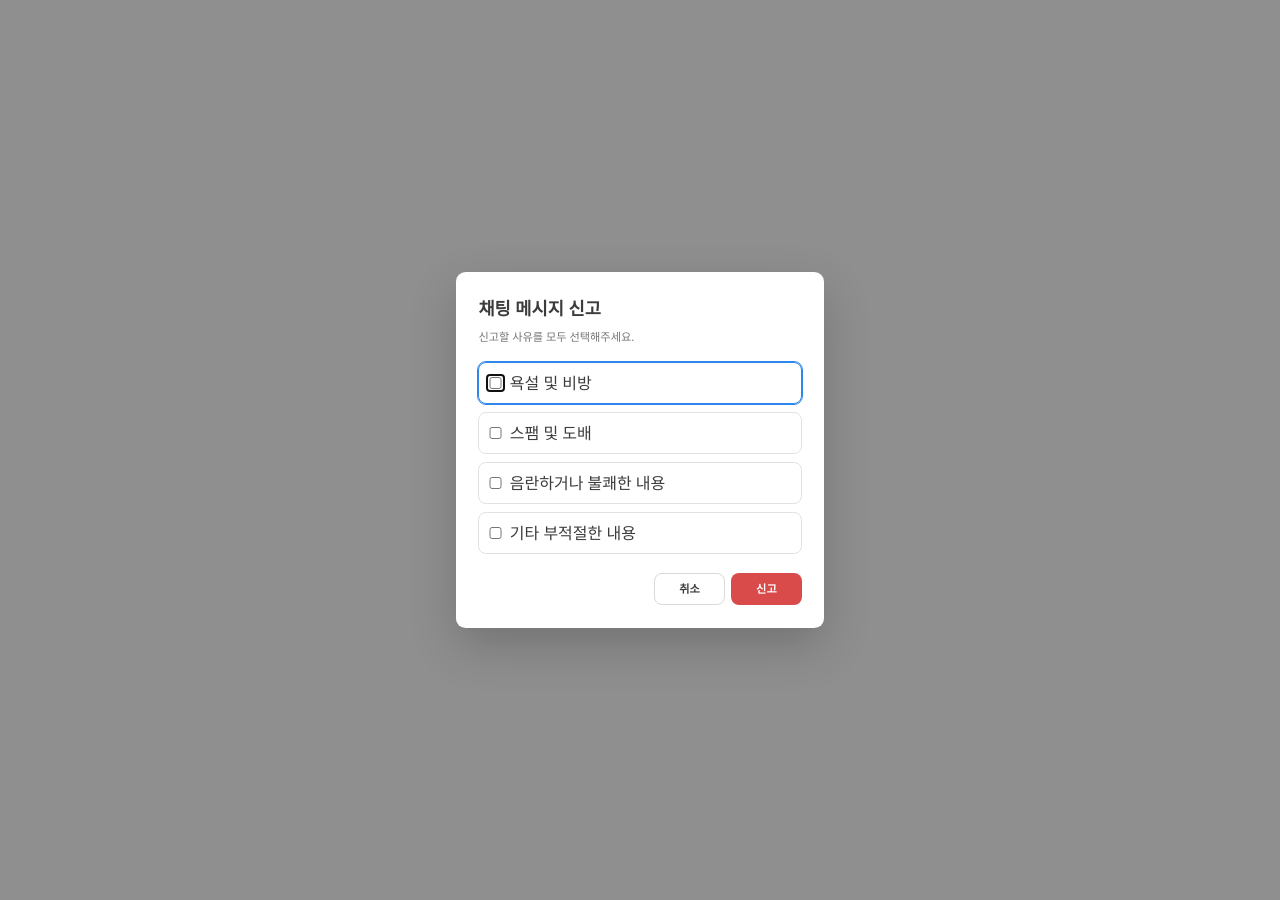
ReportChatMessageModal › 실패 시 선택 상태와 모달을 유지하고 공통 오류 알림을 표시한다
Click the checkbox labelled "스팸 및 도배" at (495, 433), box [489,427,502,439]
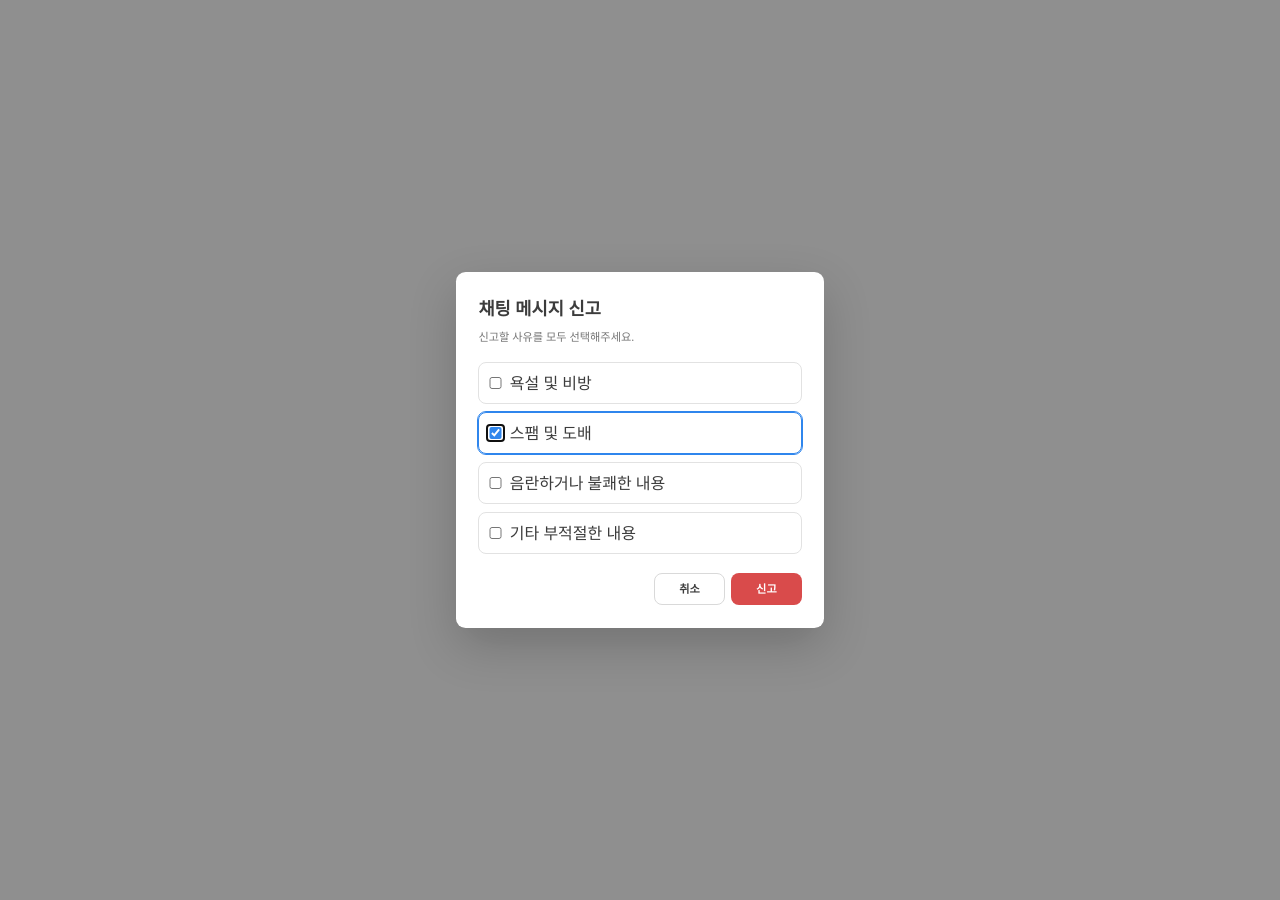
Click the button "신고" at (766, 589), box [731,573,802,605]
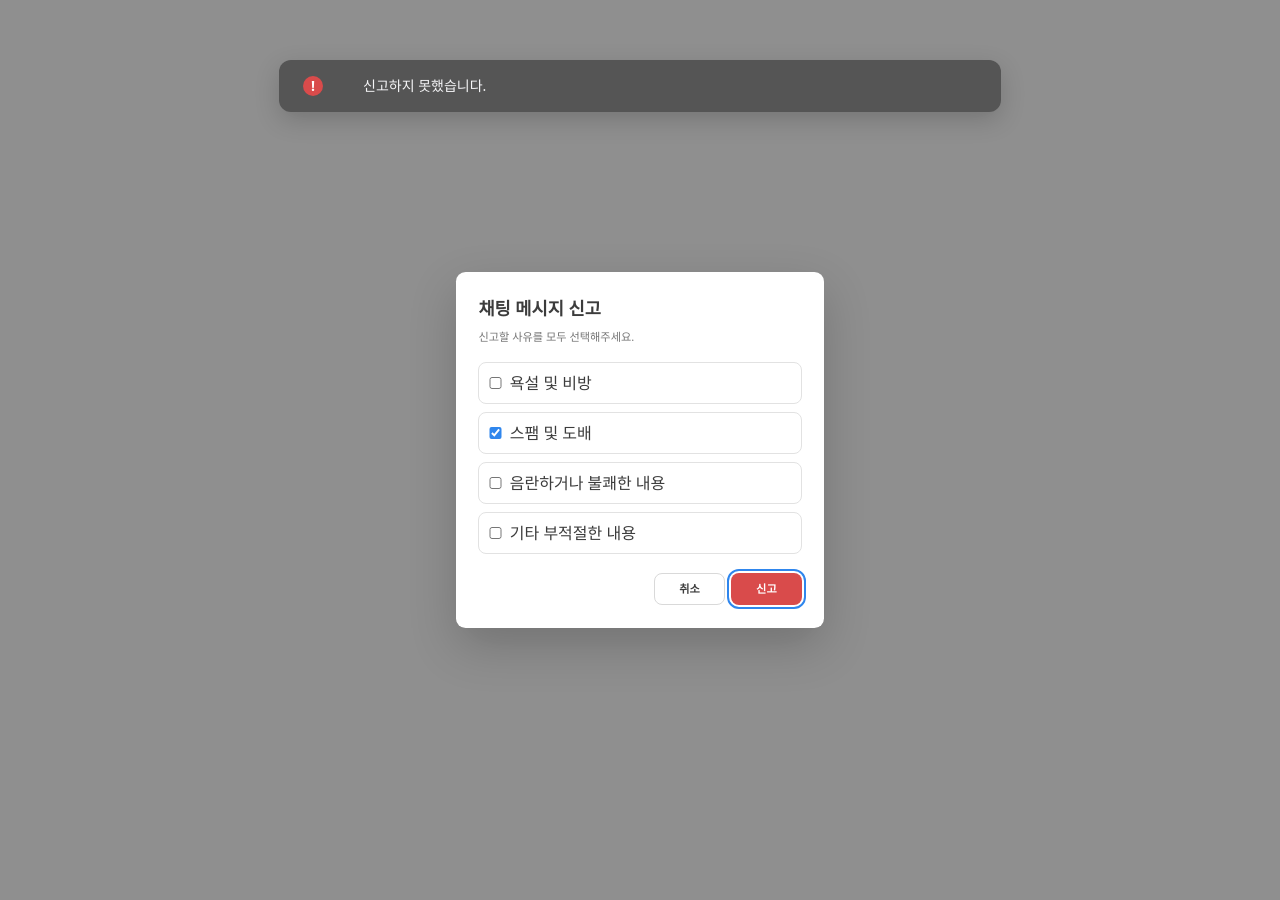
Check: the checkbox labelled "스팸 및 도배" is checked, box [489,427,502,439]
Check: the message shows "신고하지 못했습니다.", box [363,76,486,95]
